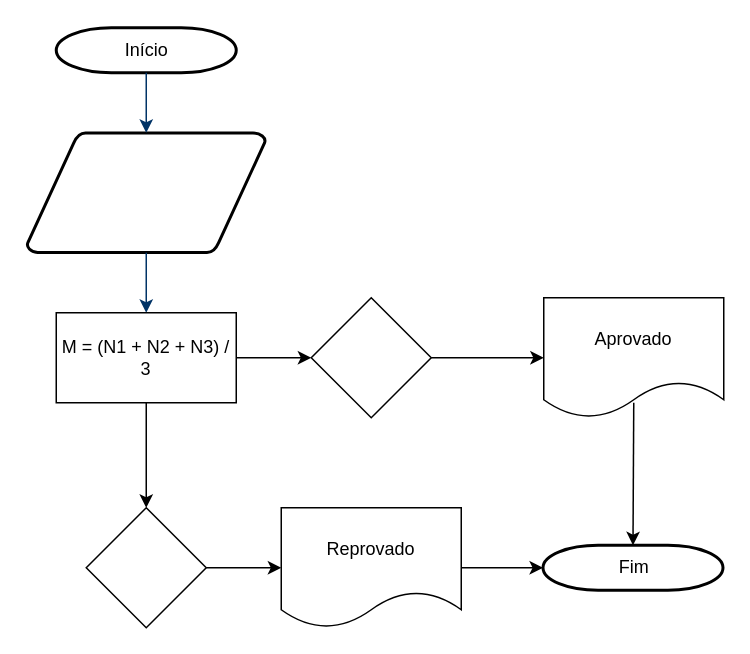
Some shapes in this 750 by 654 pixel diagram are drawn without their labels. The box of each missing label's shape, as (x1, y1, x2, y2) in pixels:
M < 7: (85, 506, 206, 628)
M >= 7: (310, 296, 431, 418)
N1, N2, N3: (25, 130, 266, 254)
